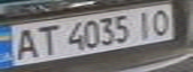0: (81, 17, 103, 48)
3: (97, 15, 118, 46)
4: (63, 19, 87, 52)
5: (112, 11, 136, 43)
A: (6, 25, 42, 61)
I: (130, 8, 160, 39)
O: (145, 6, 178, 36)
T: (30, 22, 63, 56)
